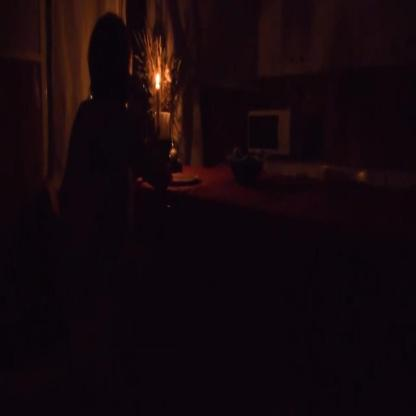fire: (153, 69, 162, 88)
